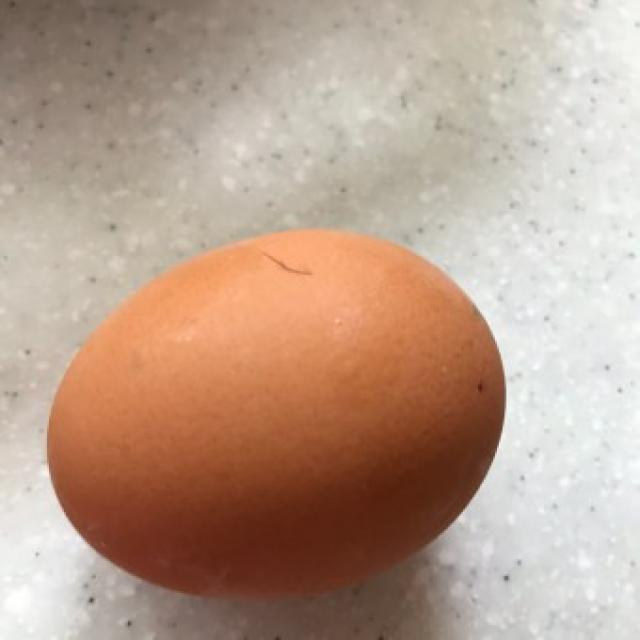eggs: (40, 225, 514, 604)
